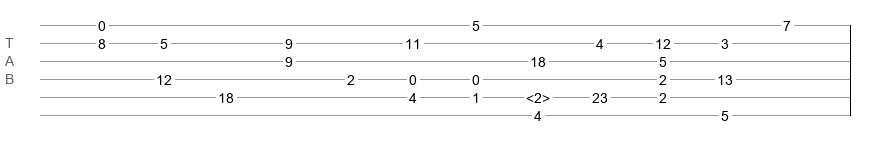0: (98, 18, 106, 28), (409, 72, 417, 82), (472, 72, 480, 82)
1: (472, 90, 480, 100)
11: (405, 36, 421, 46)
12: (156, 72, 172, 82), (655, 36, 671, 46)
13: (717, 72, 733, 82)
18: (218, 90, 234, 100), (530, 54, 546, 64)
2: (347, 72, 355, 82), (659, 72, 667, 82), (659, 90, 667, 100)
23: (592, 90, 608, 100)
3: (721, 36, 729, 46)
4: (409, 90, 417, 100), (534, 108, 542, 118), (596, 36, 604, 46)
5: (160, 36, 168, 46), (472, 18, 480, 28), (659, 54, 667, 64), (721, 108, 729, 118)
7: (783, 18, 791, 28)
8: (98, 36, 106, 46)
9: (285, 36, 293, 46), (285, 54, 293, 64)
harmonic: (526, 90, 550, 100)
